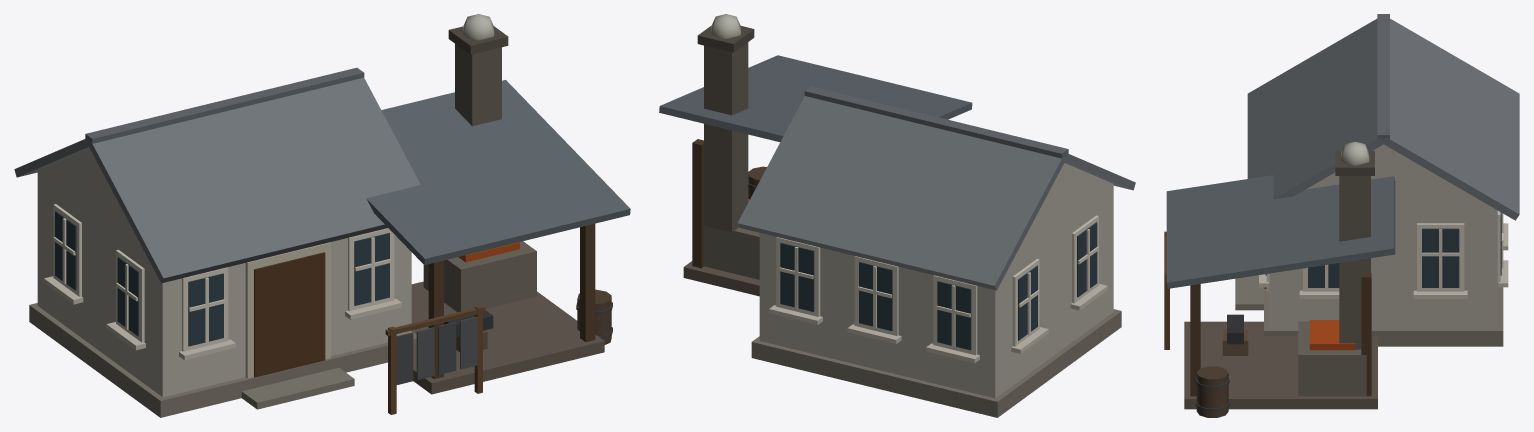
Rendered from procedural_armor_workshop@6.glb.
3 renders of one model, left to right at view 1: azimuth 30°, elevation 25°; view 2: azimuth 150°, elevation 25°; view 3: azimuth 270°, elevation 25°, orthographic. The views are drawn at different scales.
Visible parts, largest first — view 1: part_0, part_4; view 2: part_0, part_4; view 3: part_0, part_4.
Part boxes in pixels (x1,y1,x2,y2): part_0: [14, 26, 630, 417]; part_4: [463, 14, 494, 40]; part_0: [659, 25, 1135, 417]; part_4: [711, 14, 740, 38]; part_0: [1164, 14, 1519, 417]; part_4: [1341, 141, 1369, 165].
Bounding box in the file's own units: 7.9 × 4.89 × 6.24.
